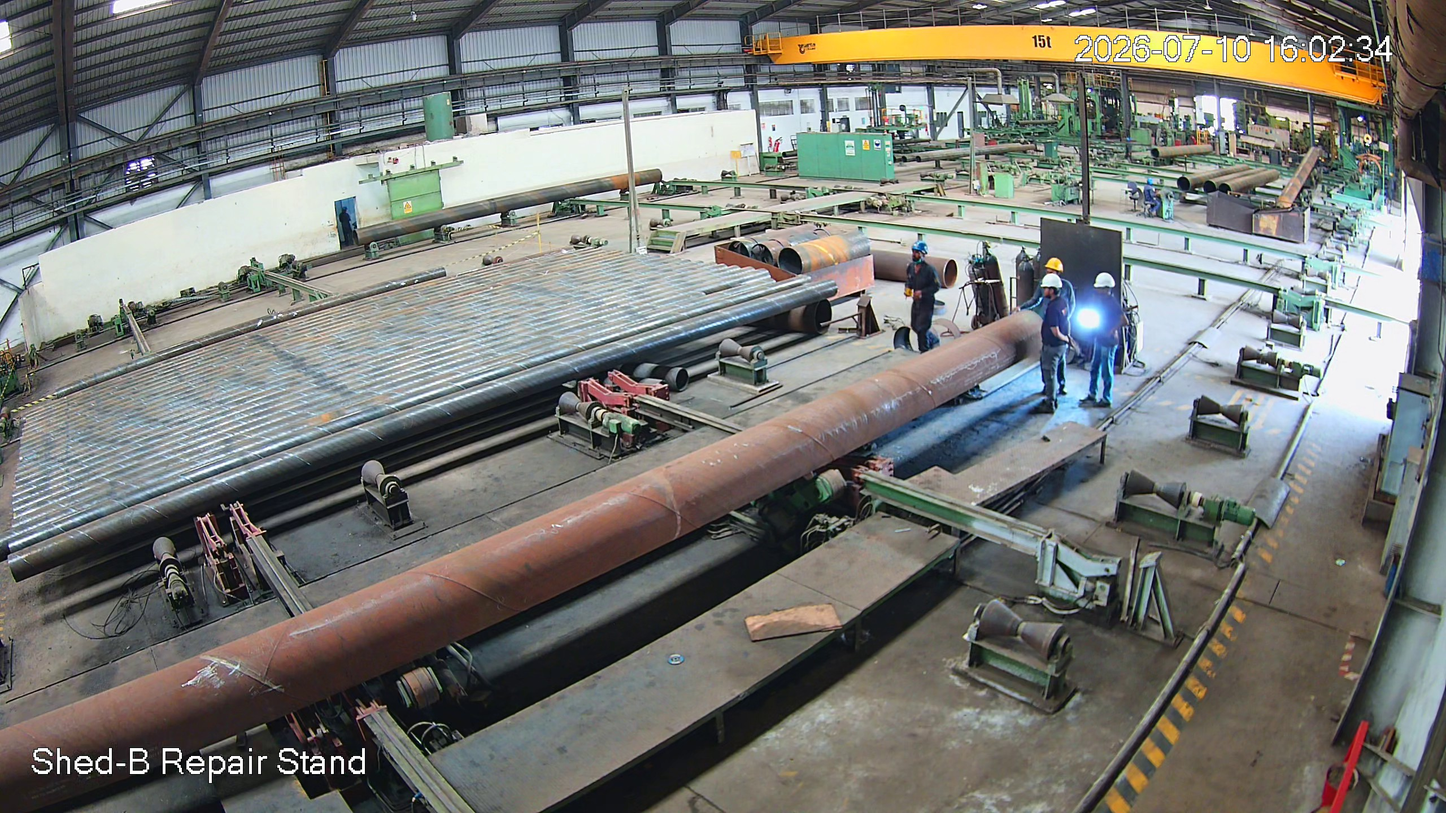Helmet: (1093, 271, 1124, 301), (1041, 273, 1067, 308), (909, 238, 933, 273)
Person: (1092, 272, 1131, 409), (1036, 275, 1074, 412), (903, 241, 948, 353)
